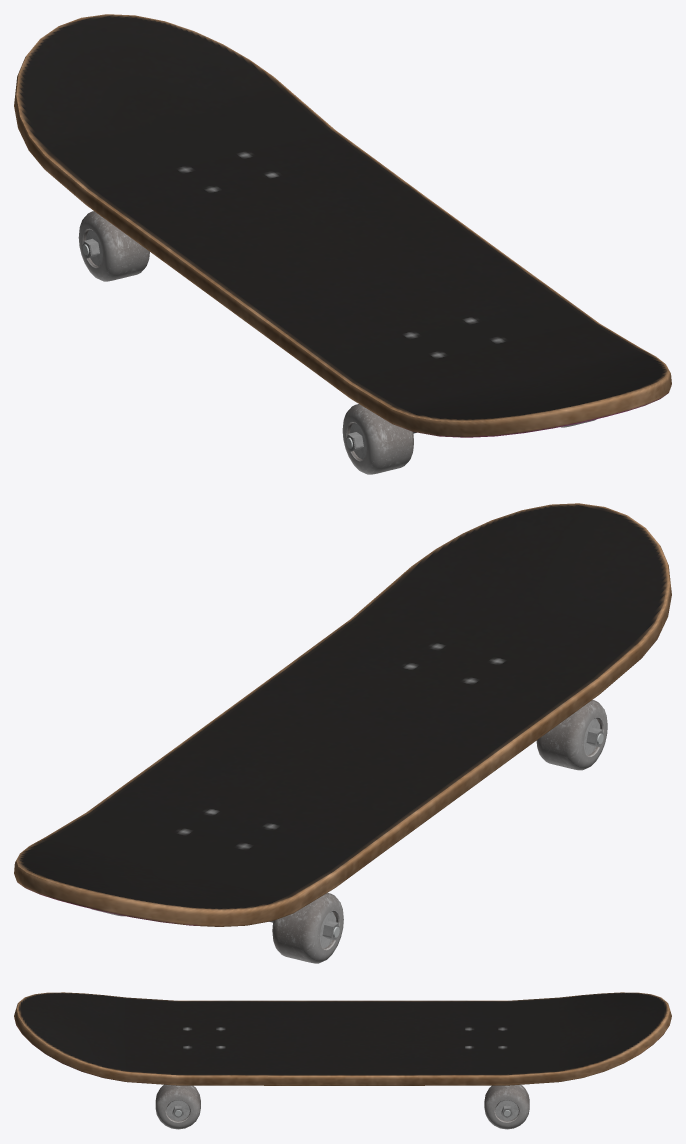
File: skate-936e79.glb
3 renders of one model, top to bottom at view 1: azimuth 30°, elevation 25°; view 2: azimuth 150°, elevation 25°; view 3: azimuth 270°, elevation 25°, orthographic. The views are drawn at different scales.
Visible parts, largest first — view 1: PropMesh; view 2: PropMesh; view 3: PropMesh.
Part boxes in pixels (x1,y1,x2,y2): PropMesh: [14, 14, 671, 474]; PropMesh: [14, 503, 671, 963]; PropMesh: [14, 992, 671, 1129].
Bounding box in the file's own units: 0.2202 × 0.117 × 0.8.
1 material, 1 textured.
